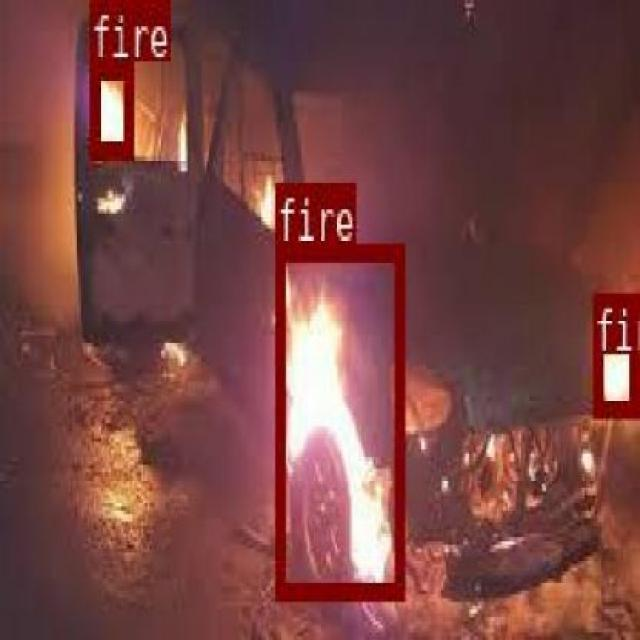Fire: (274, 242, 402, 595), (592, 290, 636, 412), (88, 58, 130, 154)
